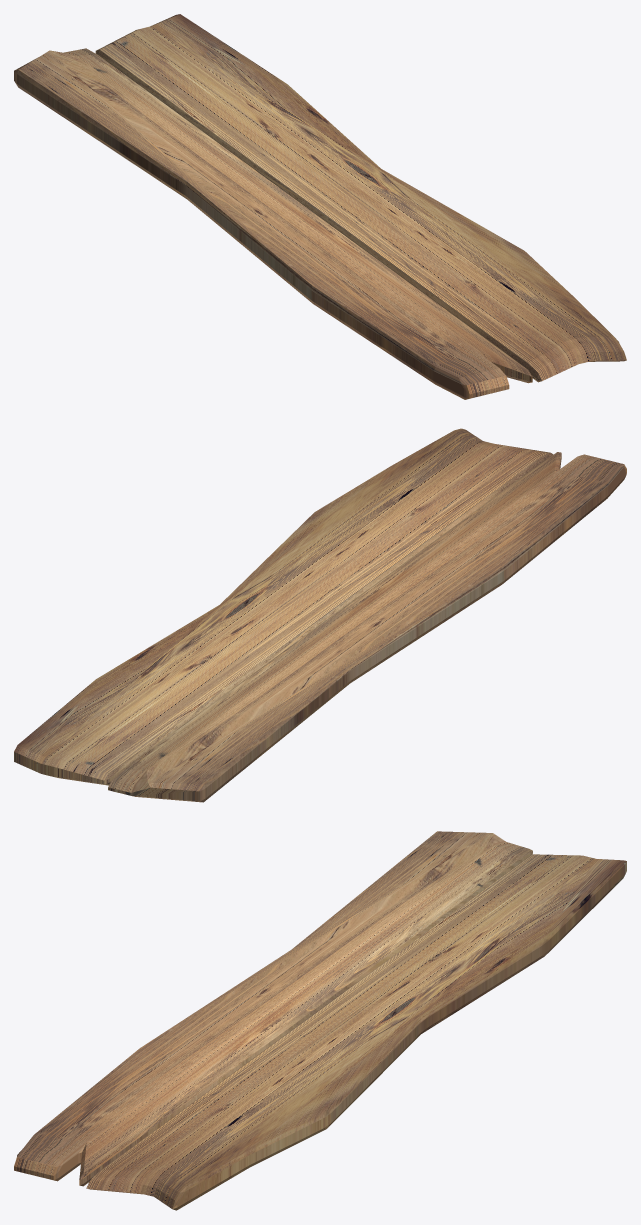
The model's file is plank4.fbx.
3 views of the same model, one above another, from view 1: azimuth 30°, elevation 25°; view 2: azimuth 150°, elevation 25°; view 3: azimuth 330°, elevation 25° (orthographic).
Visible parts, largest first — view 1: Plane.033; view 2: Plane.033; view 3: Plane.033.
Part boxes in pixels (x1,y1,x2,y2): Plane.033: [14, 14, 626, 399]; Plane.033: [14, 428, 626, 802]; Plane.033: [14, 831, 626, 1210].
Bounding box in the file's own units: 134 × 17.06 × 521.
